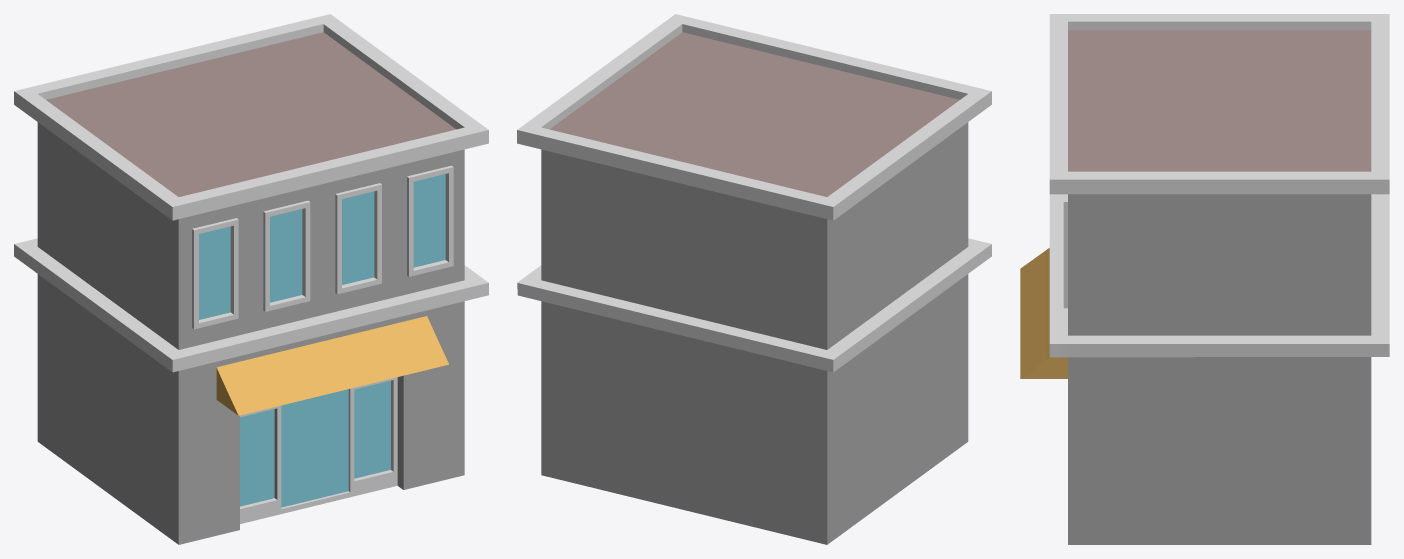
The model's file is Building3.fbx.
3 renders of one model, left to right at view 1: azimuth 30°, elevation 25°; view 2: azimuth 150°, elevation 25°; view 3: azimuth 270°, elevation 25°, orthographic. The views are drawn at different scales.
Parts seen in each view (by area): view 1: pCube17; view 2: pCube17; view 3: pCube17.
Part boxes in pixels (x1,y1,x2,y2): pCube17: (14, 14, 488, 544); pCube17: (517, 14, 991, 544); pCube17: (1020, 14, 1389, 544).
Bounding box in the file's own units: 619 × 651 × 583.
